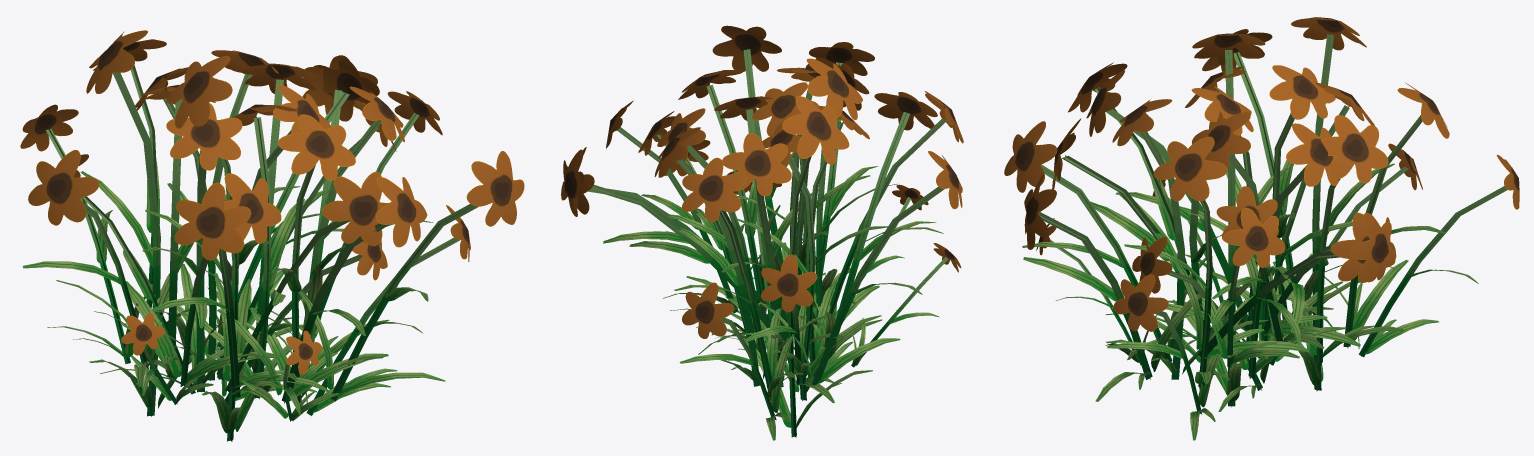
Rendered from SM_Bouton_Dor.fbx.
3 views of the same model, side by side, from view 1: azimuth 30°, elevation 25°; view 2: azimuth 150°, elevation 25°; view 3: azimuth 270°, elevation 25° (orthographic). The views are drawn at different scales.
Visible parts, largest first — view 1: tije_ref19; view 2: tije_ref19; view 3: tije_ref19.
Boxes of the visible parts, box(x1,y1,x2,y2) form: tije_ref19: box(20, 30, 524, 441); tije_ref19: box(561, 25, 963, 440); tije_ref19: box(1004, 17, 1519, 440).
Size of the model in its own units: 158 by 142 by 181.
Materials: 1 (1 with a texture image).
